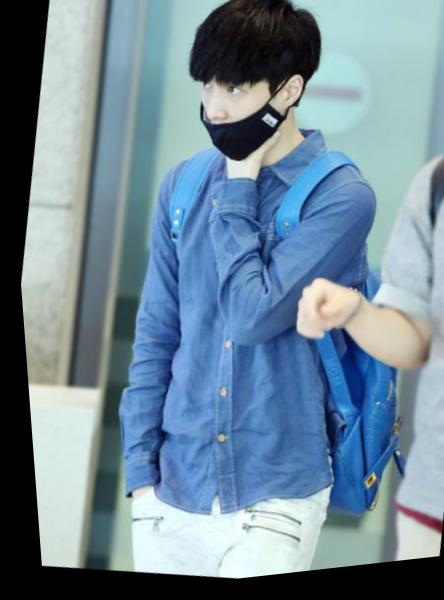WRONG: (187, 71, 290, 177)
